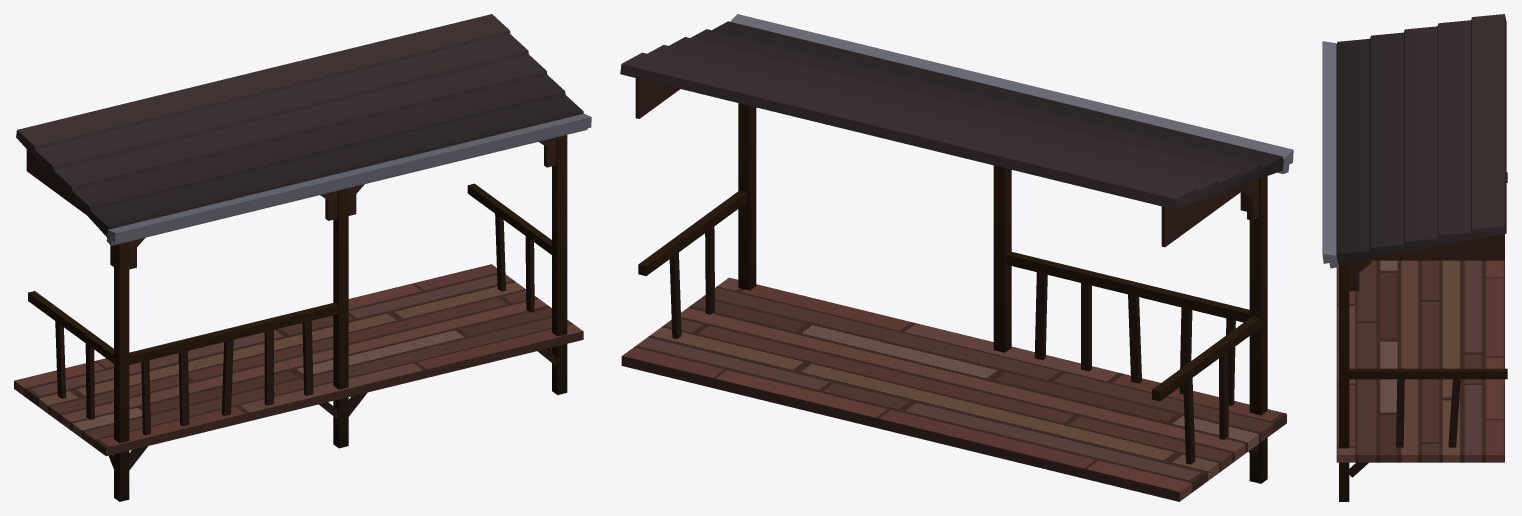
File: Deck 6M v03.glb
The picture shows the model from 3 angles, left to right: view 1: azimuth 30°, elevation 25°; view 2: azimuth 150°, elevation 25°; view 3: azimuth 270°, elevation 25°; orthographic projection. The views are drawn at different scales.
Parts seen in each view (by area): view 1: Deck 6M v03; view 2: Deck 6M v03; view 3: Deck 6M v03.
Boxes of the visible parts, box(x1,y1,x2,y2) form: Deck 6M v03: box(14, 14, 591, 501); Deck 6M v03: box(620, 14, 1293, 501); Deck 6M v03: box(1322, 14, 1507, 501).
Size of what is drawn, in the model's own units: 6.01 by 3.71 by 2.2.
Materials: 2 (2 with a texture image).
